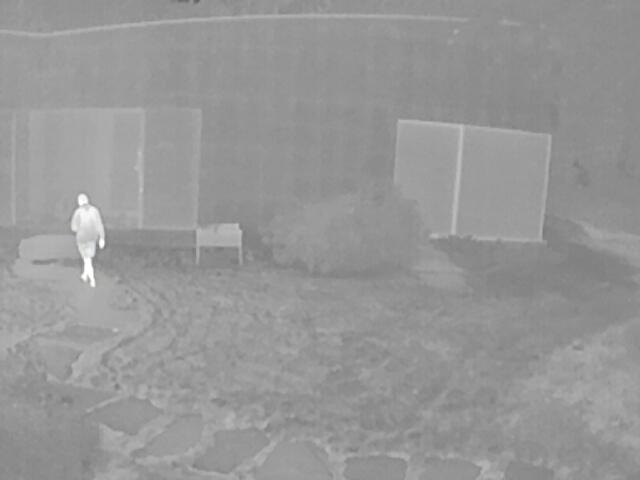person: (72, 192, 105, 290)
